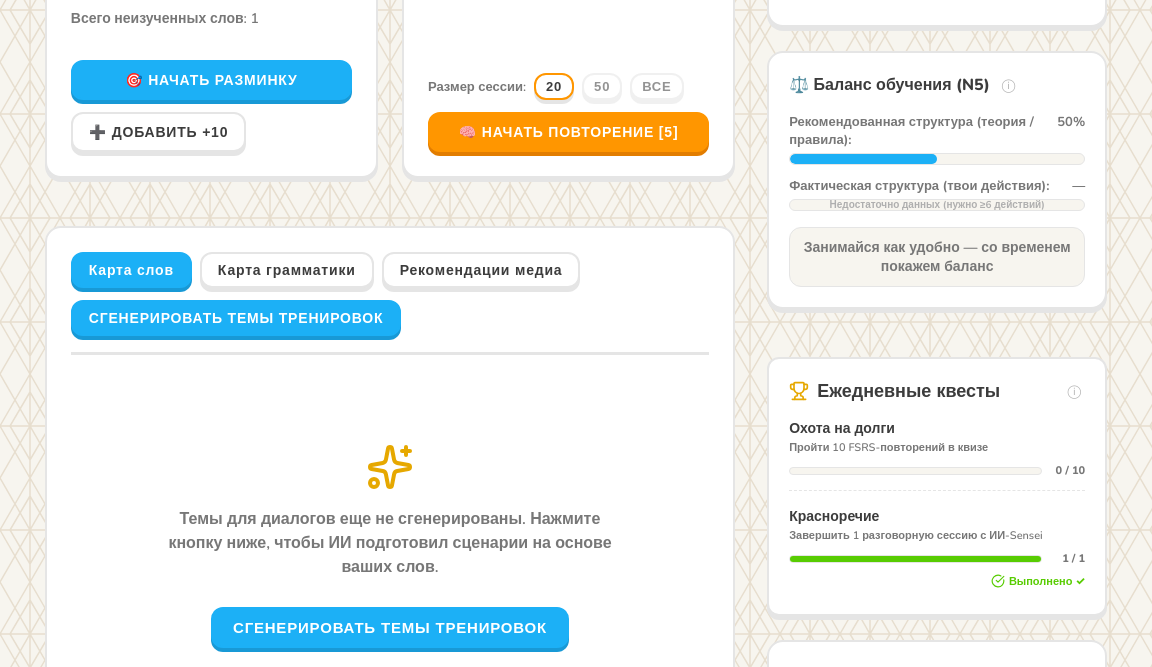
PracticePage Component › does NOT increment the daily new words count when generating scenarios in local mode
(page scrolled)
// Ждем кнопку генерации и кликаем
Step 1. Click the 1st button "Сгенерировать темы тренировок" → click(236, 318), box [71, 300, 401, 336]
(page scrolled)
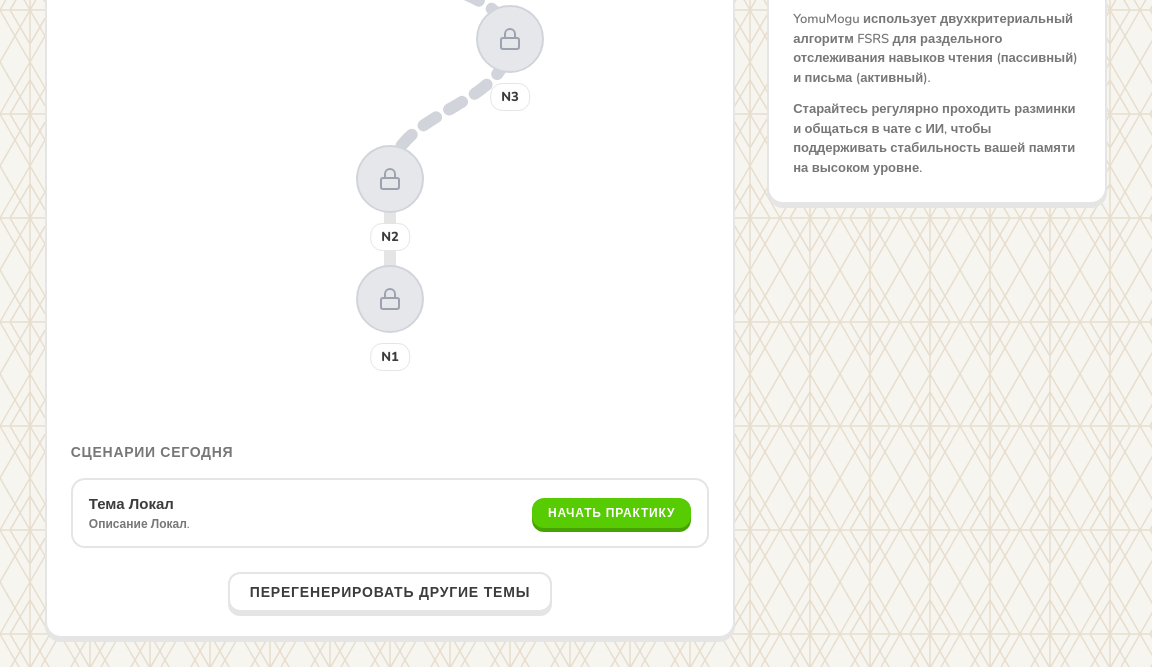
Result: the text "Тема Локал" is shown at [89, 494, 174, 514]
